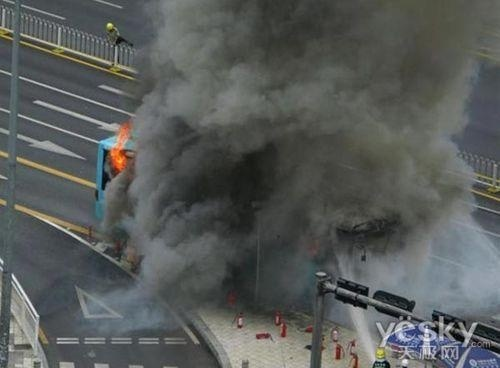fire: (109, 123, 132, 171)
